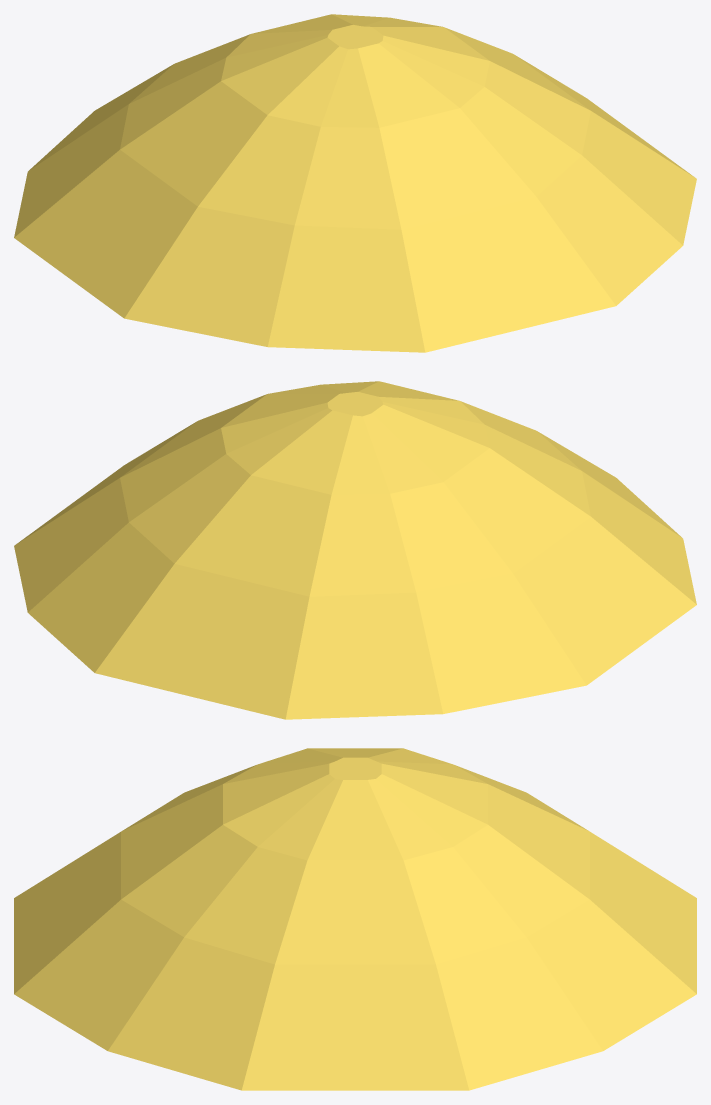
The model's file is seeds_2.glb.
3 renders of one model, top to bottom at view 1: azimuth 30°, elevation 25°; view 2: azimuth 150°, elevation 25°; view 3: azimuth 270°, elevation 25°, orthographic. The views are drawn at different scales.
Visible parts, largest first — view 1: seeds_2; view 2: seeds_2; view 3: seeds_2.
Part boxes in pixels (x1=…): seeds_2: x1=14, y1=14, x2=696, y2=352; seeds_2: x1=14, y1=381, x2=696, y2=719; seeds_2: x1=14, y1=748, x2=696, y2=1090.
Size of the model in its own units: 2.88 by 0.8256 by 2.88.
1 material, 1 textured.
